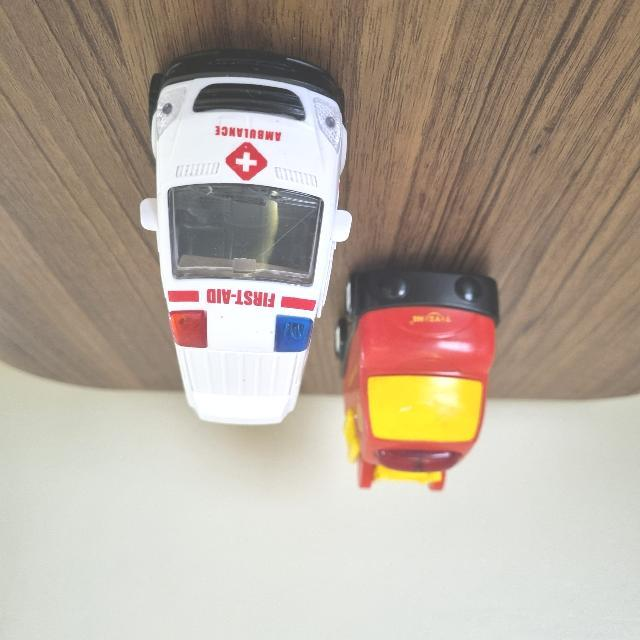emergency-vehicle: (140, 56, 352, 424)
